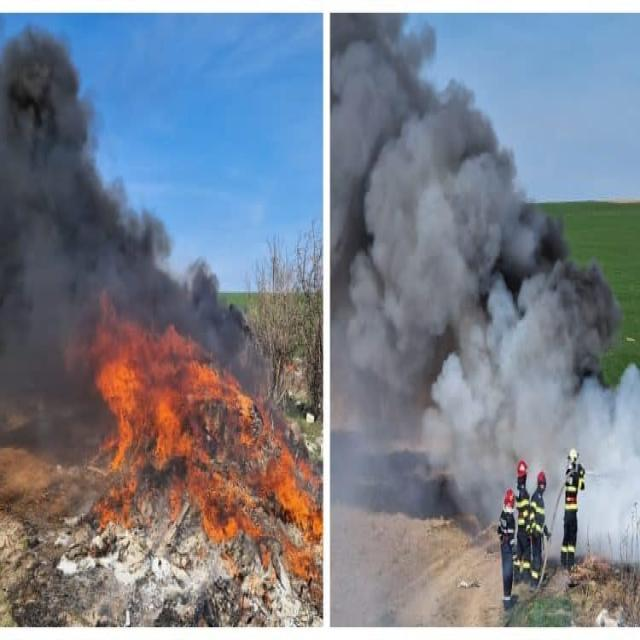Fire: (98, 348, 302, 544)
Smoke: (331, 23, 637, 560), (3, 32, 227, 474)
